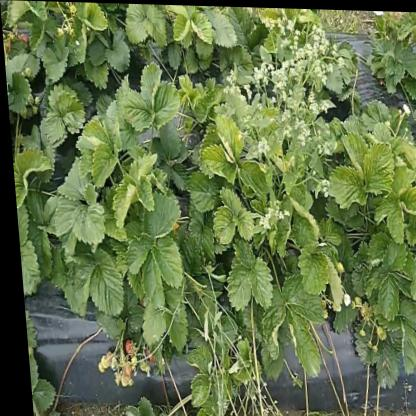ripe: (119, 339, 129, 354), (116, 363, 126, 376)
unripe: (114, 374, 123, 386), (332, 259, 340, 271), (134, 361, 142, 371), (350, 294, 358, 303), (95, 356, 101, 368), (92, 363, 98, 372), (354, 328, 360, 335)
